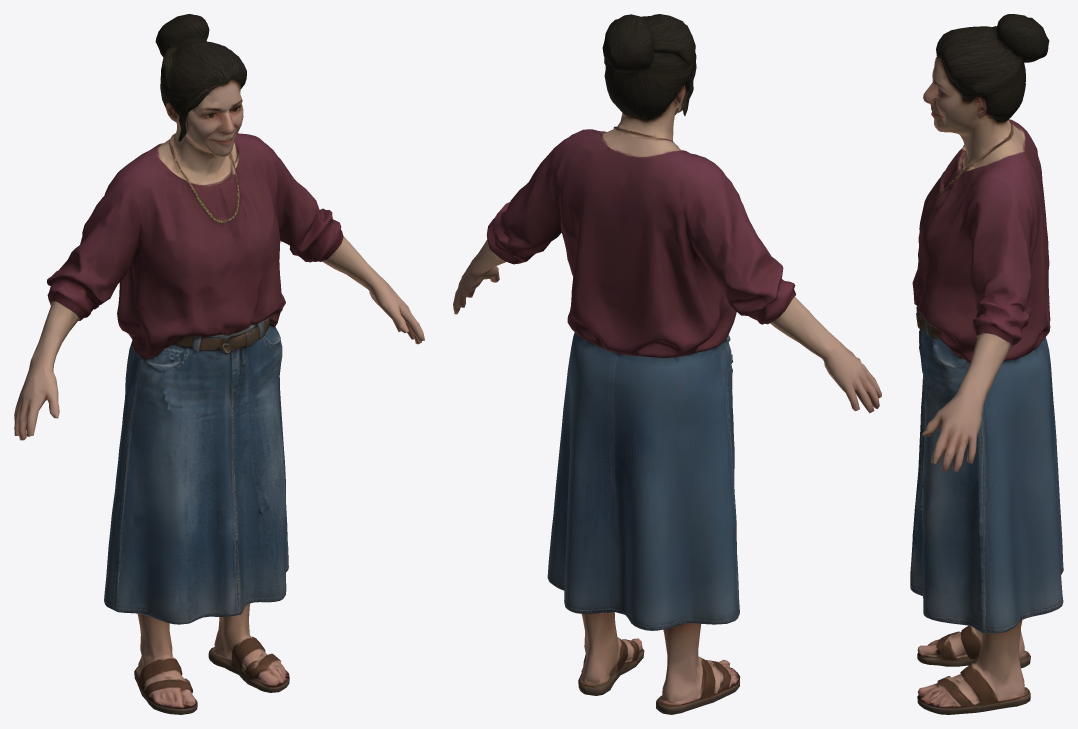
File: mom_z.glb
The picture shows the model from 3 angles, left to right: view 1: azimuth 30°, elevation 25°; view 2: azimuth 150°, elevation 25°; view 3: azimuth 270°, elevation 25°; orthographic projection. The views are drawn at different scales.
Visible parts, largest first — view 1: tripo_node_d78177e1-88d5-4311-b426-eacd7ba75739; view 2: tripo_node_d78177e1-88d5-4311-b426-eacd7ba75739; view 3: tripo_node_d78177e1-88d5-4311-b426-eacd7ba75739.
Boxes of the visible parts, bbox=[...] form: tripo_node_d78177e1-88d5-4311-b426-eacd7ba75739: bbox=[14, 14, 424, 714]; tripo_node_d78177e1-88d5-4311-b426-eacd7ba75739: bbox=[453, 14, 881, 714]; tripo_node_d78177e1-88d5-4311-b426-eacd7ba75739: bbox=[910, 14, 1063, 714].
Size of the model in its own units: 0.6451 by 1 by 0.208.
Materials: 1 (1 with a texture image).
